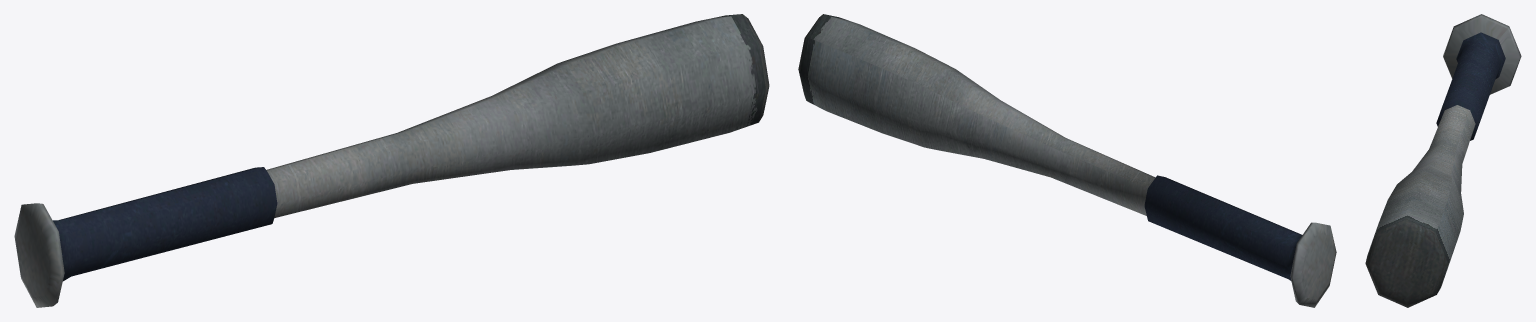
File: mario3.obj
The picture shows the model from 3 angles, left to right: view 1: azimuth 30°, elevation 25°; view 2: azimuth 150°, elevation 25°; view 3: azimuth 270°, elevation 25°; orthographic projection. The views are drawn at different scales.
Visible parts, largest first — view 1: w_bat; view 2: w_bat; view 3: w_bat.
Part boxes in pixels (x1,y1,x2,y2): w_bat: (14, 14, 769, 307); w_bat: (798, 14, 1336, 307); w_bat: (1365, 14, 1521, 307).
Bounding box in the file's own units: 6.62 × 1.59 × 1.67.
